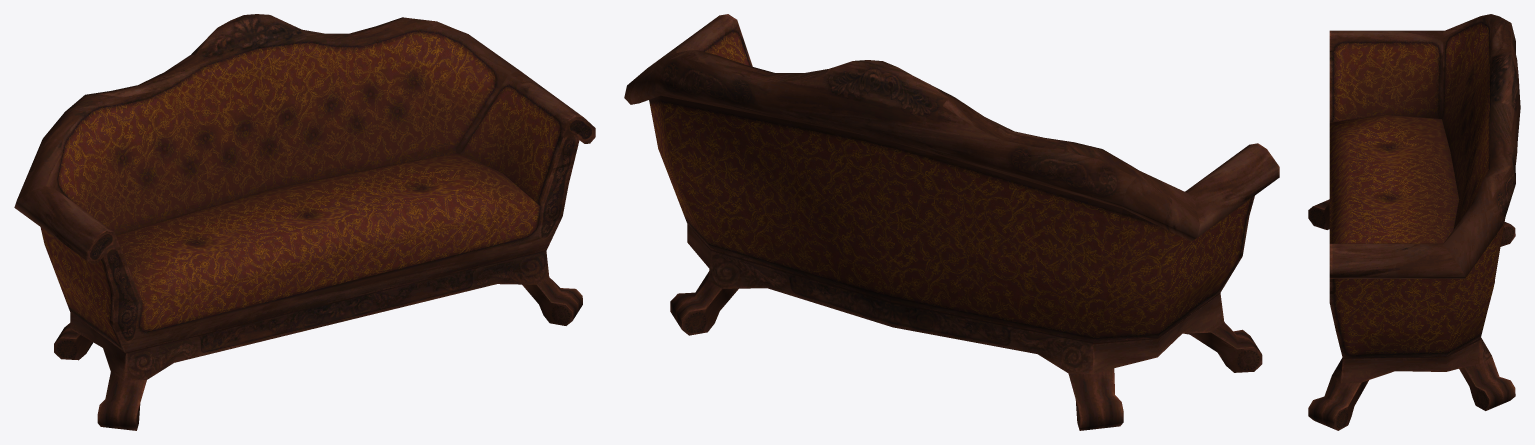
File: sofa_alt_red.dae
The picture shows the model from 3 angles, left to right: view 1: azimuth 30°, elevation 25°; view 2: azimuth 150°, elevation 25°; view 3: azimuth 270°, elevation 25°; orthographic projection. The views are drawn at different scales.
Visible parts, largest first — view 1: polySurface2; view 2: polySurface2; view 3: polySurface2.
Part boxes in pixels (x1=…): polySurface2: x1=14, y1=14, x2=595, y2=430; polySurface2: x1=624, y1=14, x2=1279, y2=430; polySurface2: x1=1308, y1=14, x2=1520, y2=430.
Bounding box in the file's own units: 2.4 × 1.29 × 0.9348.
Materials: 1 (1 with a texture image).
